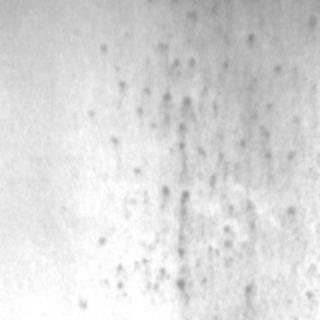pitted_surface: (98, 33, 282, 300)
